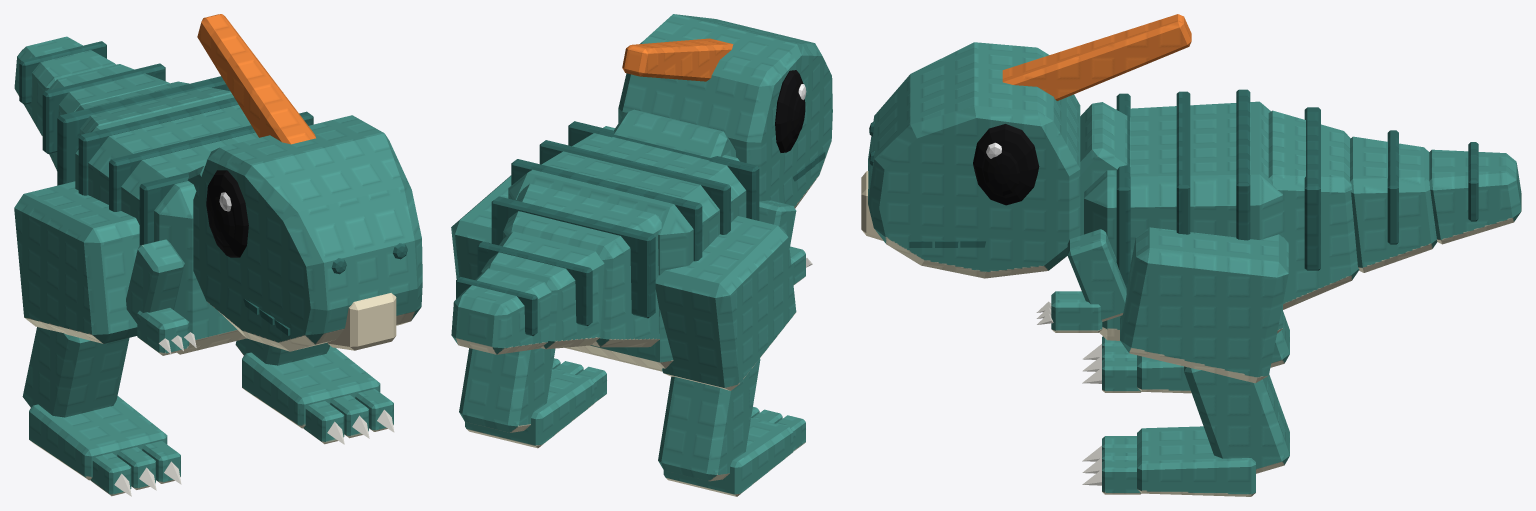
The model's file is bebe_06_Parasaurolophus.glb.
3 renders of one model, left to right at view 1: azimuth 30°, elevation 25°; view 2: azimuth 150°, elevation 25°; view 3: azimuth 270°, elevation 25°, orthographic. The views are drawn at different scales.
Visible parts, largest first — view 1: bebe_06_Parasaurolophus; view 2: bebe_06_Parasaurolophus; view 3: bebe_06_Parasaurolophus.
Part boxes in pixels (box(x1,y1,x2,y2)): bebe_06_Parasaurolophus: box(14, 14, 422, 496); bebe_06_Parasaurolophus: box(451, 14, 832, 496); bebe_06_Parasaurolophus: box(861, 14, 1521, 496).
Size of the model in its own units: 1.99 by 2.66 by 3.88.
1 material, 1 textured.
